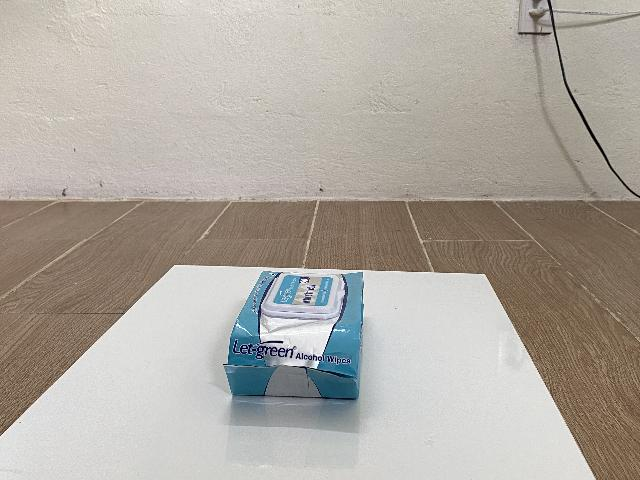Let-green_alcohol_wipes: (224, 270, 365, 403)
